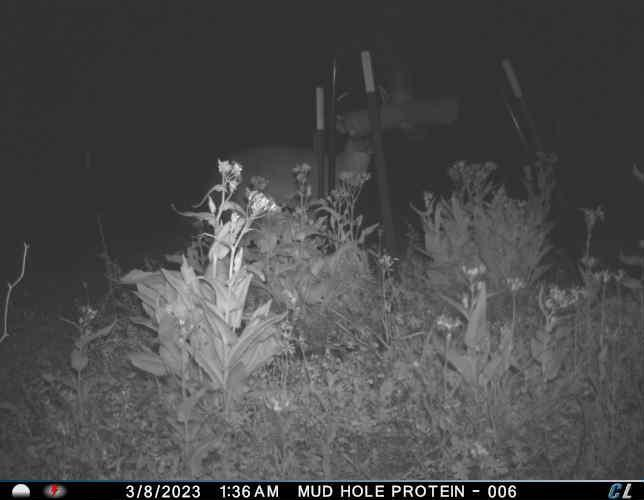Deer: (210, 85, 391, 214)
